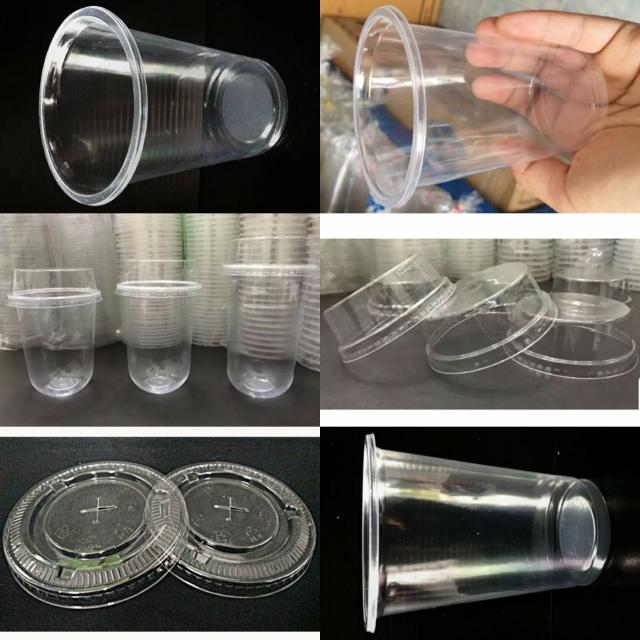Single-Use-Plastic: (353, 6, 607, 208), (40, 6, 288, 205), (363, 434, 610, 632), (4, 461, 188, 608), (169, 461, 316, 598), (223, 235, 314, 399), (427, 262, 557, 374), (324, 254, 455, 362), (8, 269, 103, 396), (116, 260, 203, 394), (514, 292, 638, 379)
